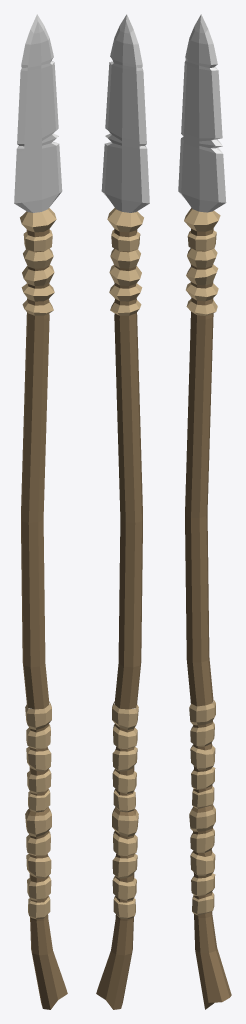
The model's file is q_spear.gltf.
3 renders of one model, left to right at view 1: azimuth 30°, elevation 25°; view 2: azimuth 150°, elevation 25°; view 3: azimuth 330°, elevation 25°, orthographic.
Parts seen in each view (by area): view 1: Spear; view 2: Spear; view 3: Spear.
Part boxes in pixels (box(x1,y1,x2,y2)): Spear: box(14, 14, 67, 1009); Spear: box(96, 14, 149, 1009); Spear: box(178, 14, 231, 1009).
Bounding box in the file's own units: 0.1146 × 2.1 × 0.0702.
